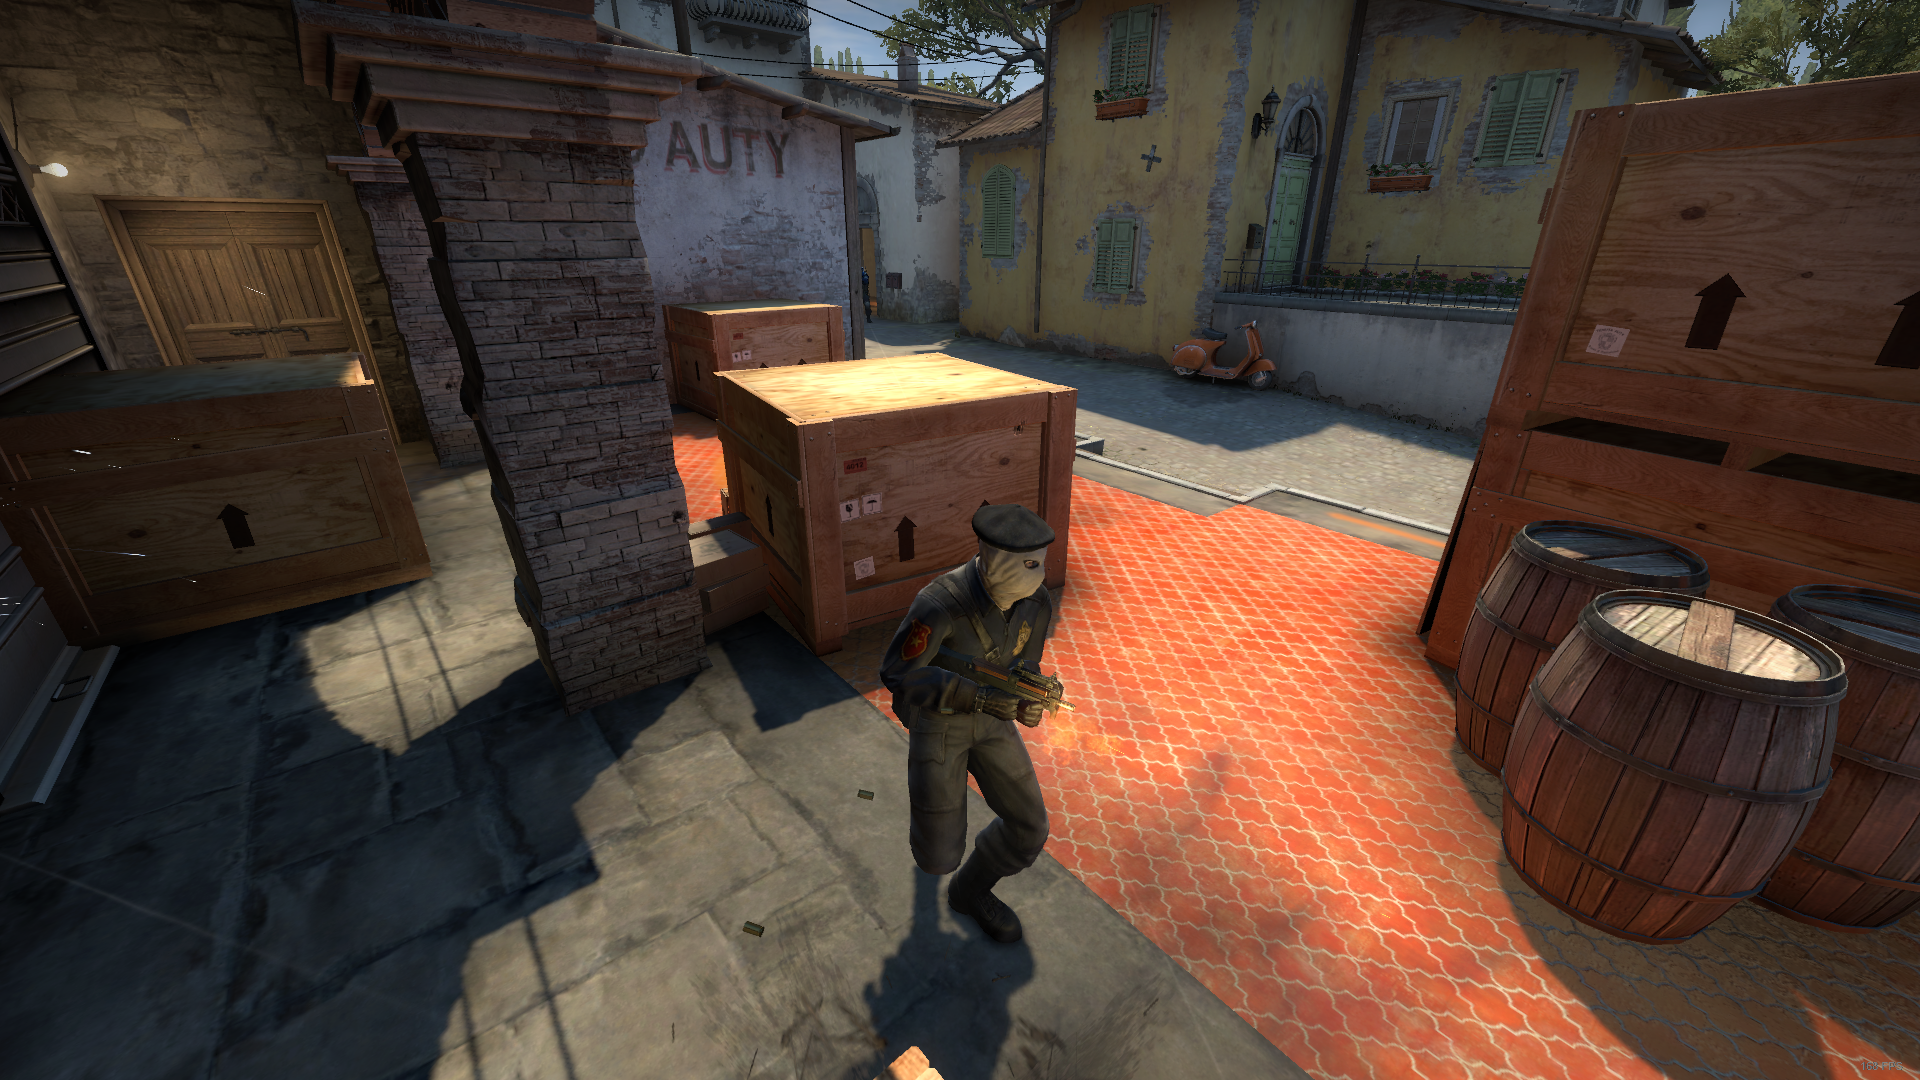t: (872, 495, 1095, 957)
